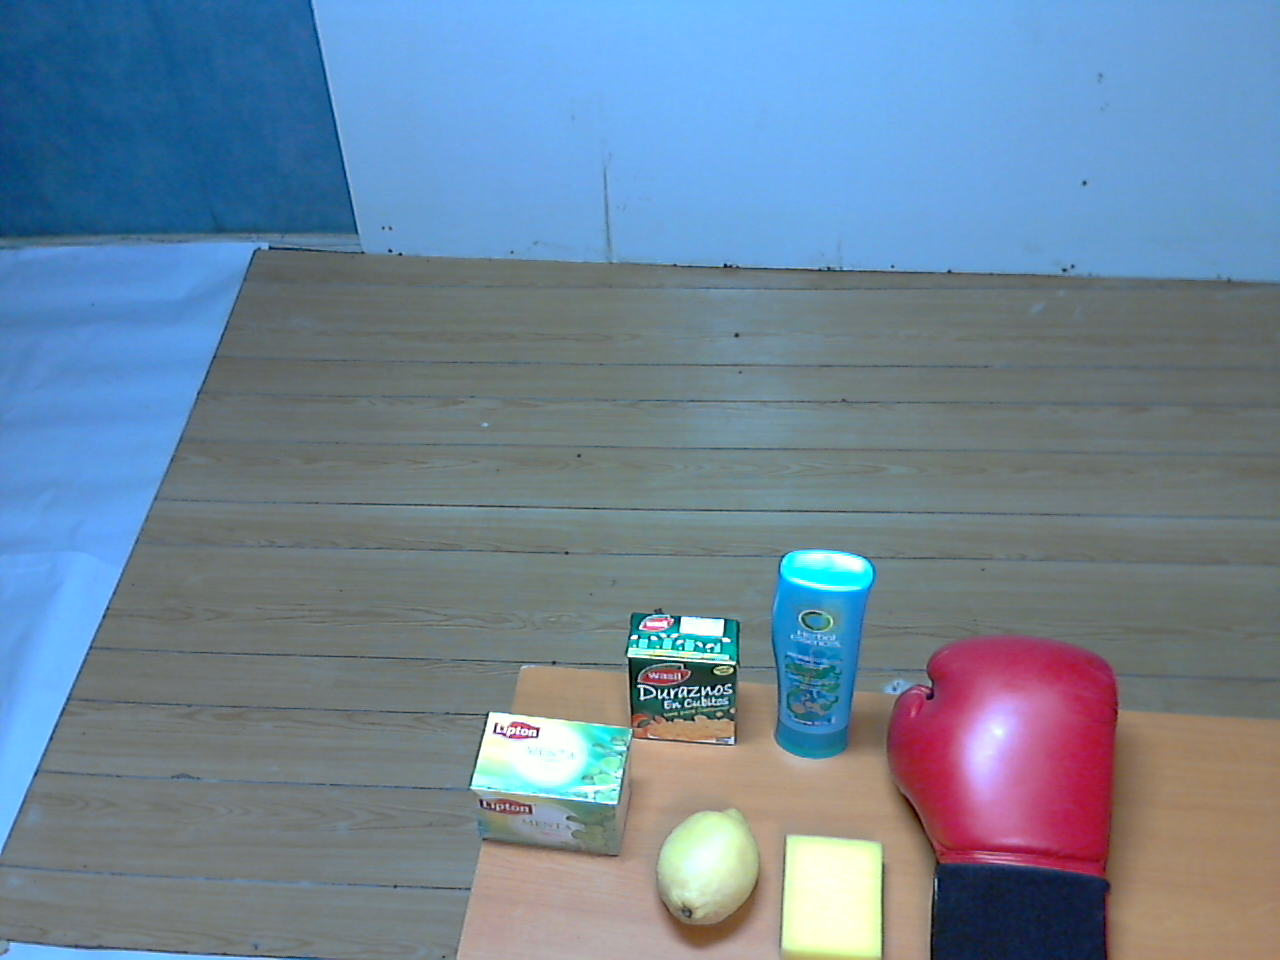balsamo: (758, 542, 883, 766)
durazno: (607, 600, 751, 754)
esponja: (764, 823, 894, 960)
guante: (870, 620, 1133, 960)
limon: (646, 797, 771, 948)
te: (460, 700, 641, 867)
